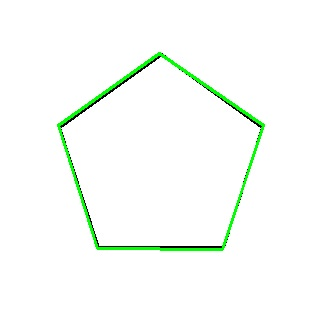line_segment: (57, 53, 264, 250)
